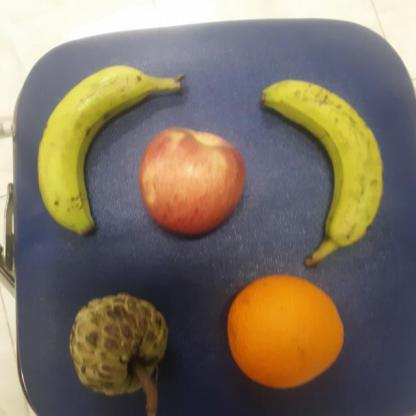annona: (70, 292, 168, 395)
apple: (136, 126, 246, 230)
banana: (38, 64, 184, 235), (260, 78, 384, 260)
orange: (226, 273, 346, 389)
